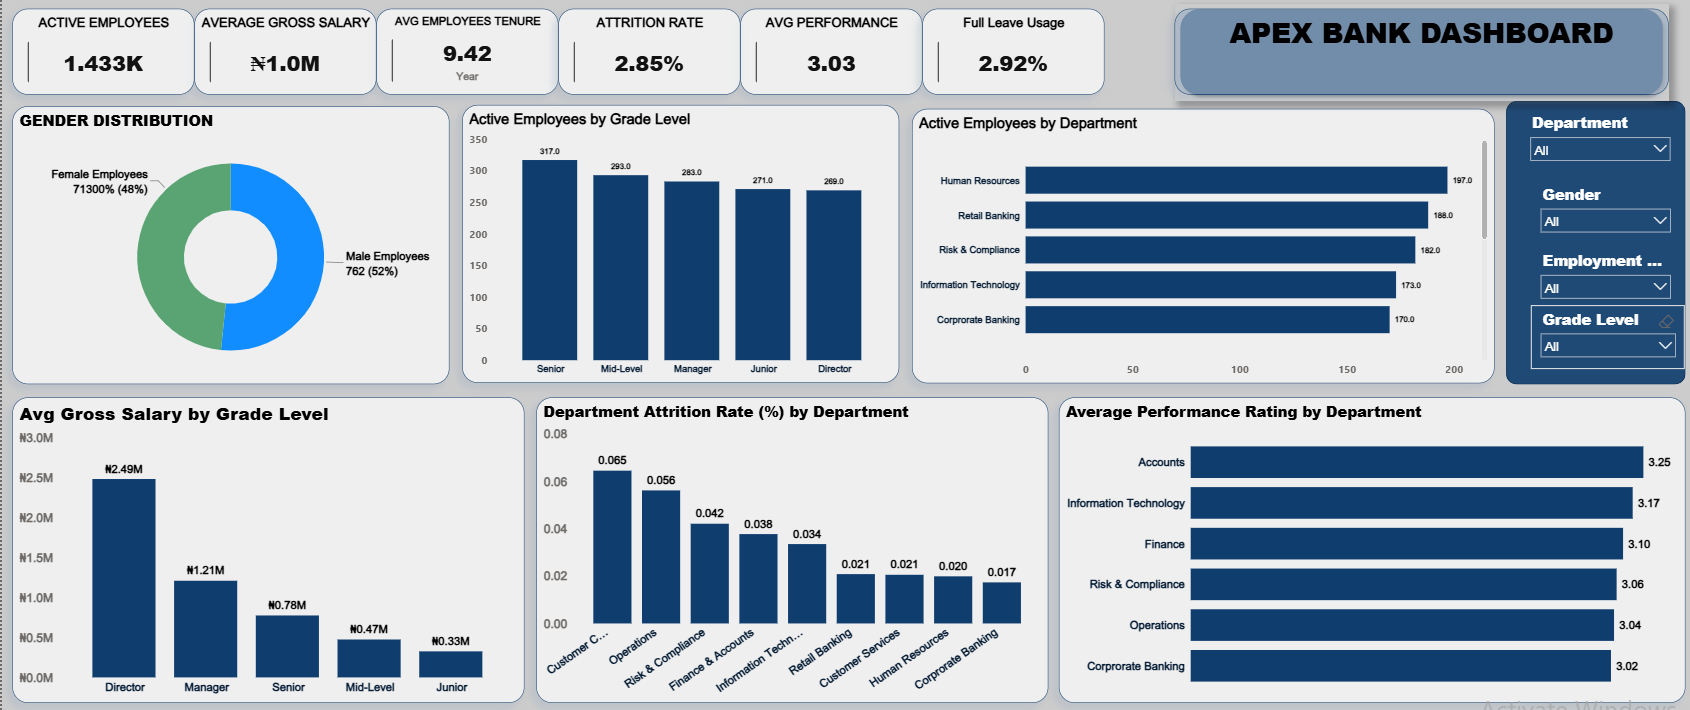

This screenshot's page, from the dashboard's own definition file:
{"tool":"powerbi","page":{"name":"Page 2","canvas":[2600,1100],"ordinal":0},"visuals":[{"type":"shape","box":[2314,160,276,436],"z":0},{"type":"shape","box":[1804,10,760,150],"z":1000},{"type":"donutChart","title":"GENDER DISTRIBUTION ","fields":{"Y":["_measure.Male Count","_measure.Female Count"]},"box":[16,168,672,428],"z":2000},{"type":"cardVisual","title":"AVG PERFORMANCE","fields":{"Data":["_measure.Average Performance Rating"]},"box":[1136,18,280,132],"z":3000},{"type":"cardVisual","title":"AVG EMPLOYEES TENURE","fields":{"Data":["_measure.Average Employee Tenure"]},"box":[576,18,280,132],"z":4000},{"type":"cardVisual","title":"Full Leave Usage","fields":{"Data":["_measure.Full Leave Usage %"]},"box":[1416,18,280,132],"z":5000},{"type":"cardVisual","title":"AVERAGE GROSS SALARY","fields":{"Data":["_measure.Average Gross Salary"]},"box":[296,18,280,132],"z":6000},{"type":"cardVisual","title":"ACTIVE EMPLOYEES","fields":{"Data":["_measure.Total Active Employees"]},"box":[16,18,280,132],"z":7000},{"type":"cardVisual","title":"ATTRITION RATE","fields":{"Data":["_measure.Attrition Rate (%)"]},"box":[856,18,280,132],"z":8000},{"type":"columnChart","title":"Department Attrition Rate (%) by Department","fields":{"Y":["_measure.Department Attrition Rate (%)"],"Category":["ApexBank_HR_Intermediate(Employee_Data).Department_Updated"]},"box":[822,616,788,470],"z":9000},{"type":"textbox","box":[1804,18,760,132],"z":10000},{"type":"slicer","fields":{"Values":["ApexBank_HR_Intermediate(Employee_Data).Gender_Updated"]},"box":[2352,282,230,100],"z":11000},{"type":"slicer","fields":{"Values":["ApexBank_HR_Intermediate(Employee_Data).Grade_Level"]},"box":[2352,474,238,98],"z":12000},{"type":"slicer","fields":{"Values":["ApexBank_HR_Intermediate(Employee_Data).Employment_Type_Updated"]},"box":[2352,384,230,90],"z":13000},{"type":"slicer","fields":{"Values":["ApexBank_HR_Intermediate(Employee_Data).Department_Updated"]},"box":[2336,172,246,104],"z":14000},{"type":"columnChart","fields":{"Y":["_measure.Active Employees"],"Category":["ApexBank_HR_Intermediate(Employee_Data).Grade_Level"]},"box":[708,166,672,428],"z":15000},{"type":"barChart","fields":{"Category":["ApexBank_HR_Intermediate(Employee_Data).Department_Updated"],"Y":["_measure.Active Employees"]},"box":[1400,172,896,422],"z":16000},{"type":"clusteredBarChart","title":"Average Performance Rating by Department","fields":{"Category":["ApexBank_HR_Intermediate(Employee_Data).Department_Updated"],"Y":["_measure.Average Performance Rating"]},"box":[1626,616,964,470],"z":17000},{"type":"columnChart","title":"Avg Gross Salary by Grade Level","fields":{"Category":["ApexBank_HR_Intermediate(Employee_Data).Grade_Level"],"Y":["_measure.Average Gross Salary"]},"box":[16,616,788,470],"z":18000}]}

Visuals, with their boxes in screenshot pixels (x1, y1, x2, y2), scaled from the page's 2600x1100 canvas onto the 1690x710 screenshot:
shape: left=1504, top=103, right=1684, bottom=385
shape: left=1173, top=6, right=1667, bottom=103
"GENDER DISTRIBUTION " donutChart: left=10, top=108, right=447, bottom=385
"AVG PERFORMANCE" cardVisual: left=738, top=12, right=920, bottom=97
"AVG EMPLOYEES TENURE" cardVisual: left=374, top=12, right=556, bottom=97
"Full Leave Usage" cardVisual: left=920, top=12, right=1102, bottom=97
"AVERAGE GROSS SALARY" cardVisual: left=192, top=12, right=374, bottom=97
"ACTIVE EMPLOYEES" cardVisual: left=10, top=12, right=192, bottom=97
"ATTRITION RATE" cardVisual: left=556, top=12, right=738, bottom=97
"Department Attrition Rate (%) by Department" columnChart: left=534, top=398, right=1046, bottom=701
textbox: left=1173, top=12, right=1667, bottom=97
slicer - ApexBank_HR_Intermediate(Employee_Data).Gender_Updated: left=1529, top=182, right=1678, bottom=247
slicer - ApexBank_HR_Intermediate(Employee_Data).Grade_Level: left=1529, top=306, right=1684, bottom=369
slicer - ApexBank_HR_Intermediate(Employee_Data).Employment_Type_Updated: left=1529, top=248, right=1678, bottom=306
slicer - ApexBank_HR_Intermediate(Employee_Data).Department_Updated: left=1518, top=111, right=1678, bottom=178
columnChart - _measure.Active Employees x ApexBank_HR_Intermediate(Employee_Data).Grade_Level: left=460, top=107, right=897, bottom=383
barChart - ApexBank_HR_Intermediate(Employee_Data).Department_Updated x _measure.Active Employees: left=910, top=111, right=1492, bottom=383
"Average Performance Rating by Department" clusteredBarChart: left=1057, top=398, right=1684, bottom=701
"Avg Gross Salary by Grade Level" columnChart: left=10, top=398, right=523, bottom=701
